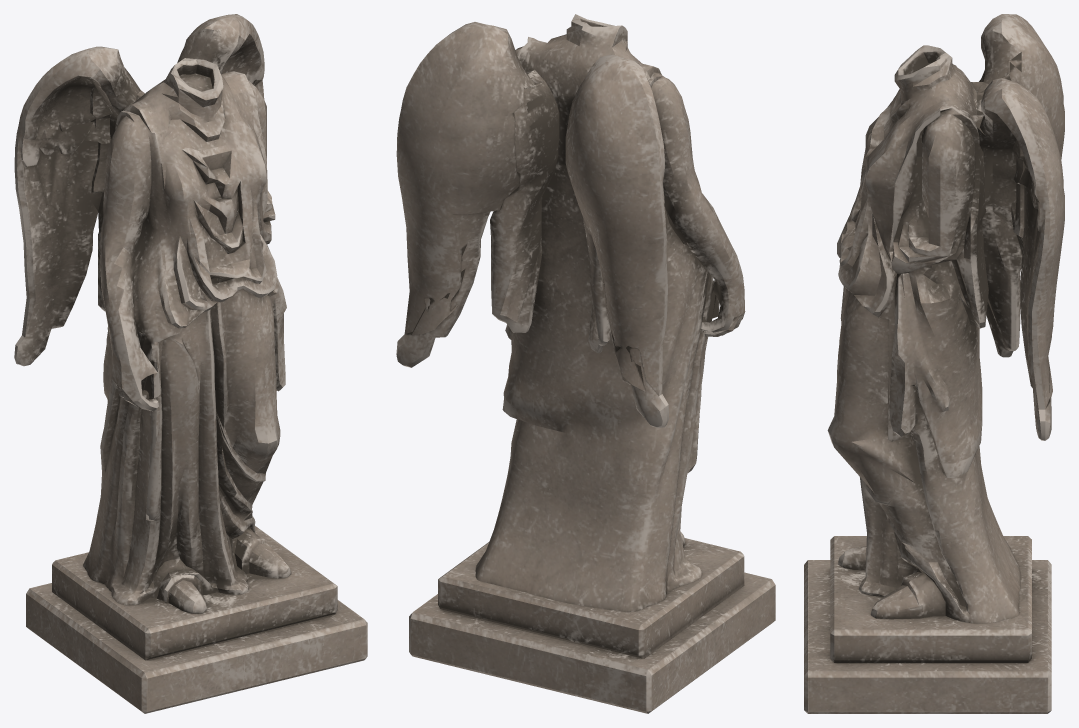
The model's file is SM_Statue.fbx.
3 views of the same model, side by side, from view 1: azimuth 30°, elevation 25°; view 2: azimuth 150°, elevation 25°; view 3: azimuth 270°, elevation 25° (orthographic). The views are drawn at different scales.
Parts seen in each view (by area): view 1: SM_Statue.001; view 2: SM_Statue.001; view 3: SM_Statue.001.
Boxes of the visible parts, x1,y1,x2,y2 form: SM_Statue.001: (14, 14, 367, 713); SM_Statue.001: (396, 14, 775, 713); SM_Statue.001: (804, 14, 1064, 713).
Size of the model in its own units: 47.63 by 105 by 41.03.
